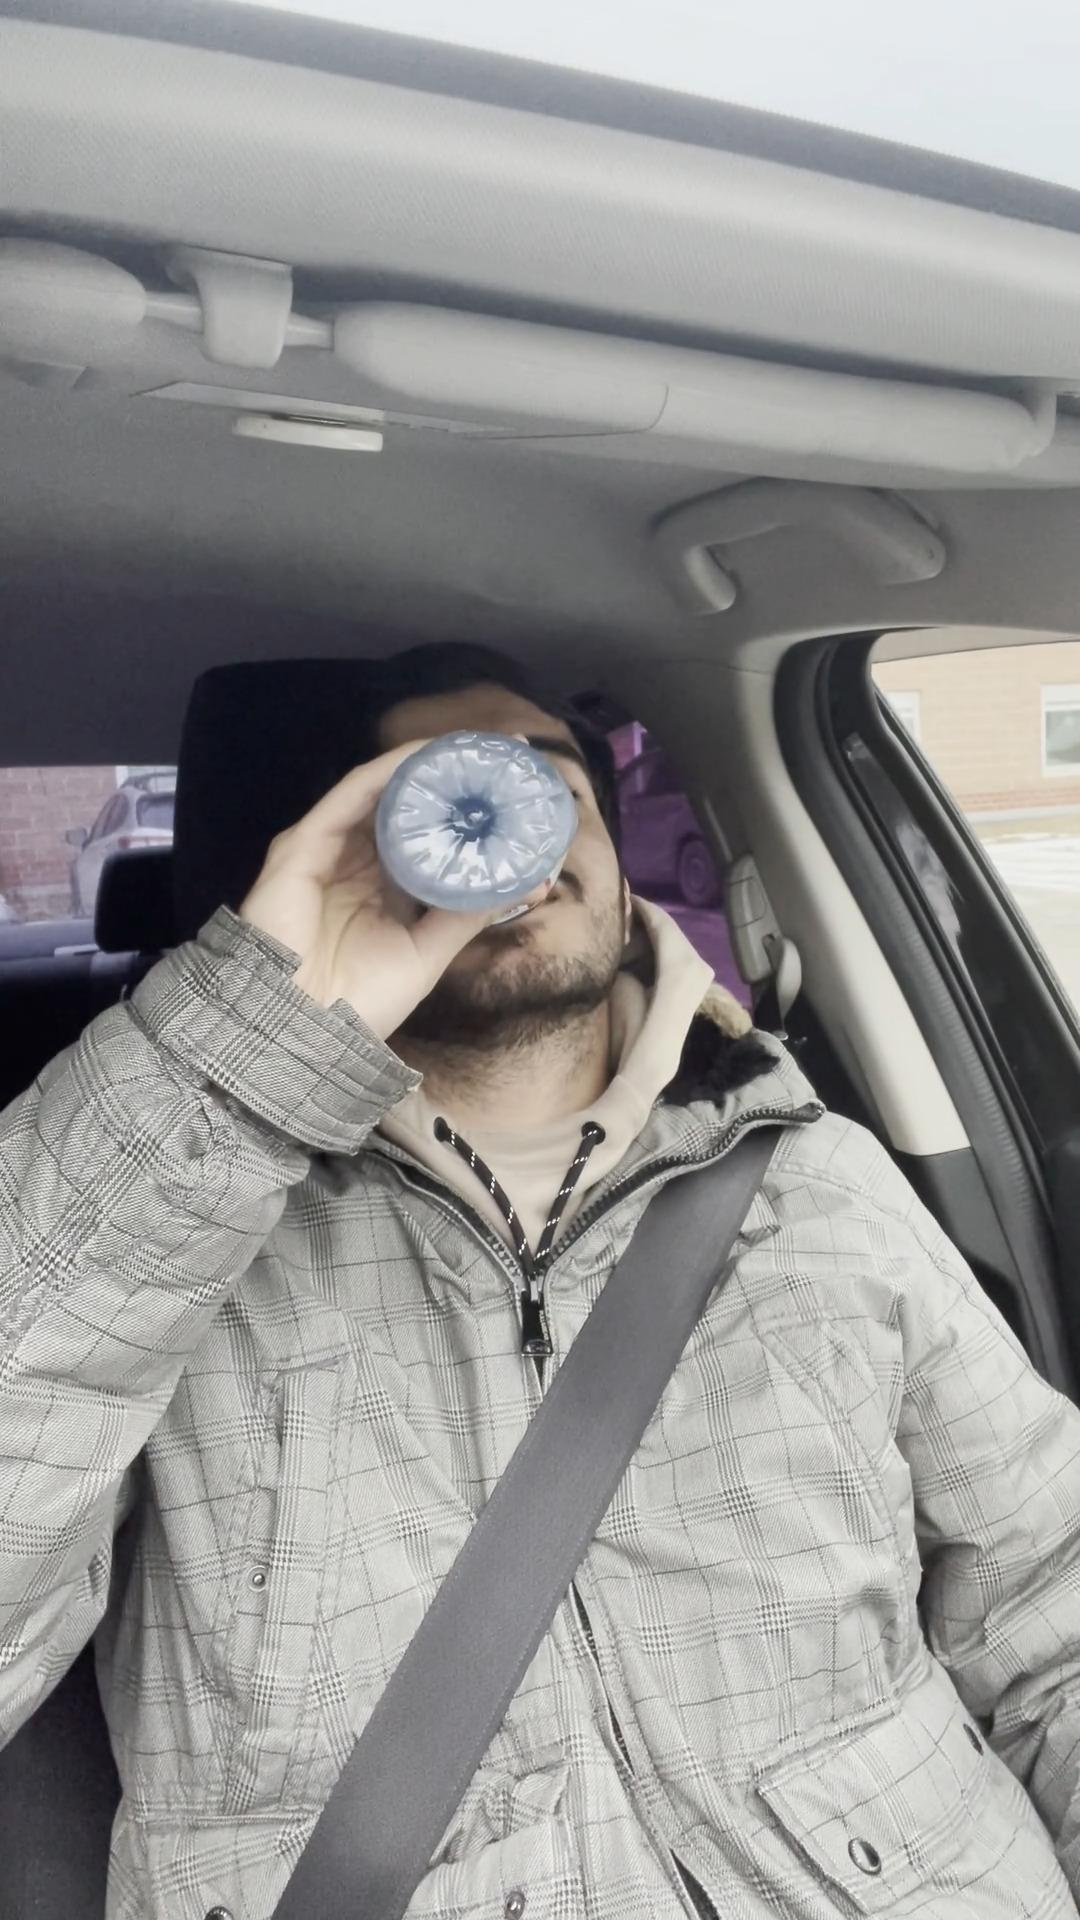drinking: (349, 735, 611, 945)
seatbelt: (222, 1105, 899, 1920)
